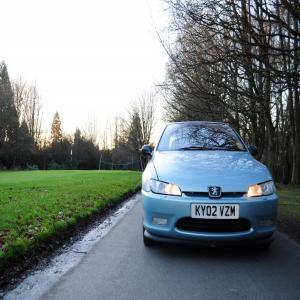Vehicle-registration-plate: (193, 205, 241, 220)
